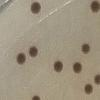black: (30, 1, 41, 15), (28, 45, 39, 58), (72, 61, 83, 73), (53, 60, 64, 72), (83, 83, 93, 96), (90, 1, 100, 13), (16, 52, 26, 64), (81, 44, 90, 55), (94, 73, 100, 86), (31, 94, 41, 100)
